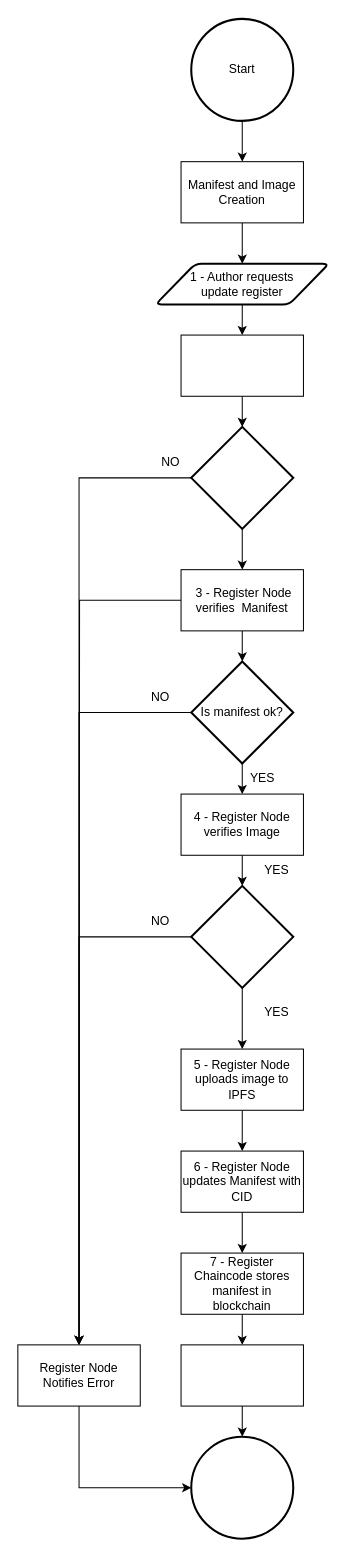
Some shapes in this 348 by 1557 pixel diagram are drawn without their labels. The shapes that lost their labels are listed below. From the top down, each one's centre as x and y in pixels, then its label:
the point at 241,365: 2 -Register Node verifies author key
the point at 242,477: Is key registered?
the point at 242,936: Is image ok?
the point at 241,1375: Register Node notifies Succes
the point at 242,1487: END
